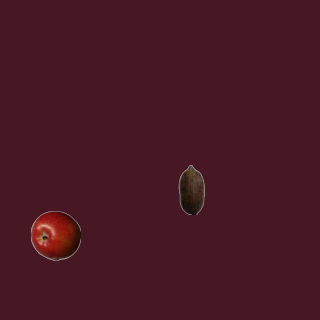Apple Braeburn: (30, 210, 80, 260)
Nut Pecan: (166, 164, 216, 214)
